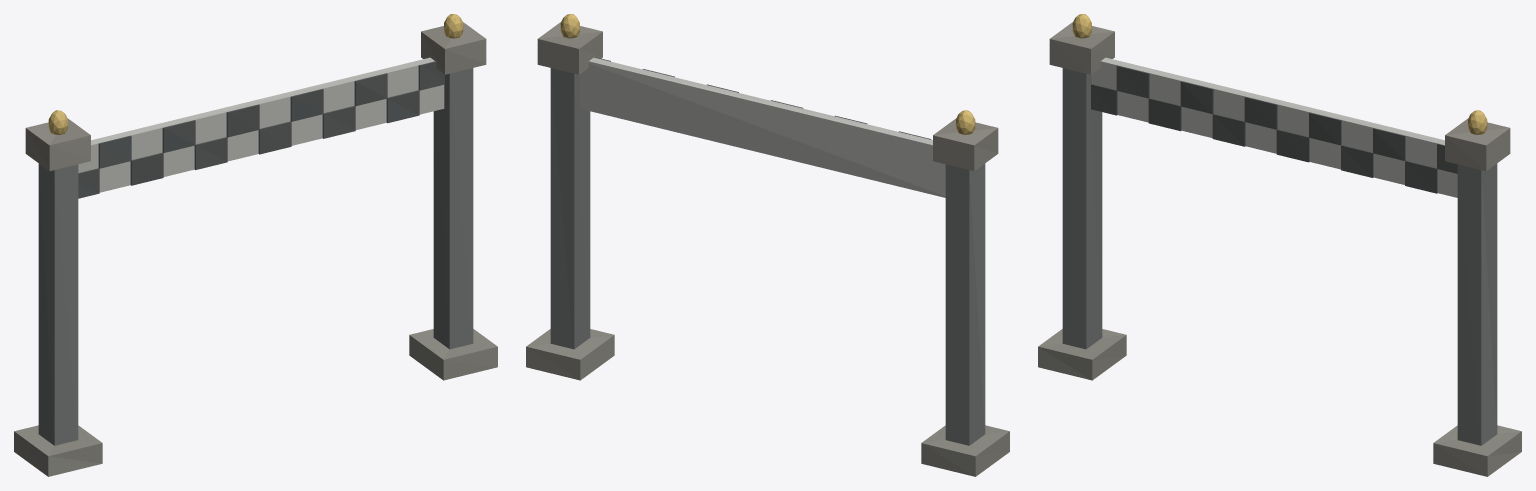
The model's file is race_finish_gate.glb.
3 renders of one model, left to right at view 1: azimuth 30°, elevation 25°; view 2: azimuth 150°, elevation 25°; view 3: azimuth 330°, elevation 25°, orthographic.
Visible parts, largest first — view 1: pillar_-2, banner_back, pillar_2, foot_-2, foot_2, top_-2, top_2, checker_5_1, checker_9_1, checker_1_1, checker_2_0, checker_3_1 (+7 smaller); view 2: banner_back, pillar_-2, pillar_2, foot_-2, foot_2, top_-2, top_2; view 3: pillar_2, banner_back, pillar_-2, foot_2, foot_-2, top_2, top_-2, checker_5_1, checker_4_0, checker_1_1, checker_3_1, checker_2_0 (+6 smaller).
Part boxes in pixels (<box>): pillar_-2: <box>38,163,78,445</box>; banner_back: <box>78,57,444,192</box>; pillar_2: <box>433,68,473,349</box>; foot_-2: <box>14,425,102,476</box>; foot_2: <box>409,329,497,380</box>; top_-2: <box>25,118,90,171</box>; top_2: <box>421,22,486,74</box>; checker_5_1: <box>226,104,259,137</box>; checker_9_1: <box>354,73,387,106</box>; checker_1_1: <box>98,135,131,168</box>; checker_2_0: <box>130,152,163,185</box>; checker_3_1: <box>162,120,195,152</box>; banner_back: <box>579,57,945,197</box>; pillar_-2: <box>945,163,985,445</box>; pillar_2: <box>550,68,590,349</box>; foot_-2: <box>921,425,1009,476</box>; foot_2: <box>526,329,614,380</box>; top_-2: <box>933,118,998,171</box>; top_2: <box>537,22,602,74</box>; pillar_2: <box>1457,163,1497,445</box>; banner_back: <box>1091,57,1457,197</box>; pillar_-2: <box>1062,68,1102,349</box>; foot_2: <box>1433,425,1521,476</box>; foot_-2: <box>1038,329,1126,380</box>; top_2: <box>1445,118,1510,171</box>; top_-2: <box>1049,22,1114,74</box>; checker_5_1: <box>1244,96,1277,129</box>; checker_4_0: <box>1212,113,1245,146</box>; checker_1_1: <box>1116,65,1149,98</box>; checker_3_1: <box>1180,81,1213,114</box>; checker_2_0: <box>1148,98,1181,131</box>.
Size of the model in its own units: 4.55 by 3.36 by 0.6.
